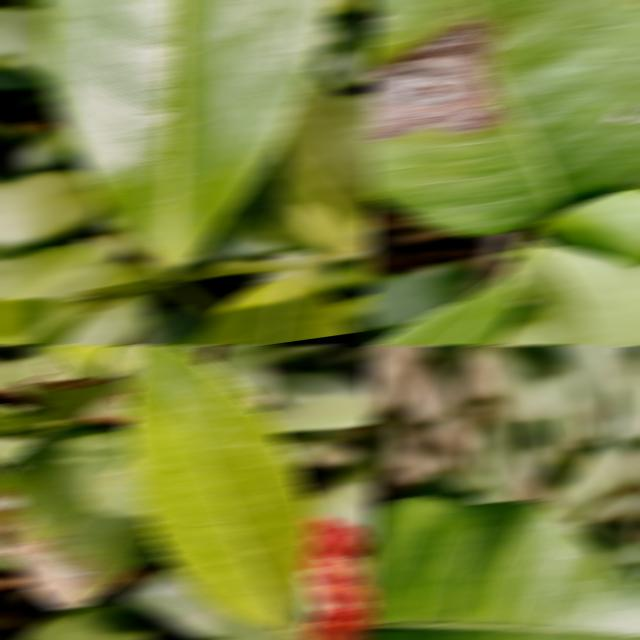Leaf: (39, 0, 334, 279), (366, 0, 640, 234), (123, 346, 315, 631), (366, 498, 640, 640), (0, 425, 154, 607), (244, 73, 376, 252), (512, 241, 640, 344), (123, 569, 291, 640), (370, 266, 519, 344), (194, 273, 353, 344), (0, 171, 104, 246), (540, 189, 640, 265), (366, 262, 477, 327), (557, 346, 621, 437), (16, 605, 157, 640), (468, 420, 522, 499), (264, 395, 376, 432), (0, 298, 90, 344), (0, 7, 50, 75), (211, 346, 278, 394), (74, 346, 122, 373)
